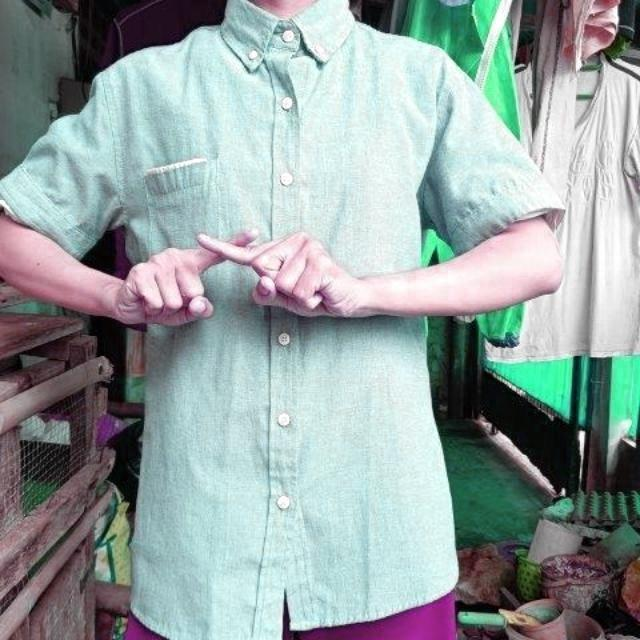X: (120, 210, 342, 330)
